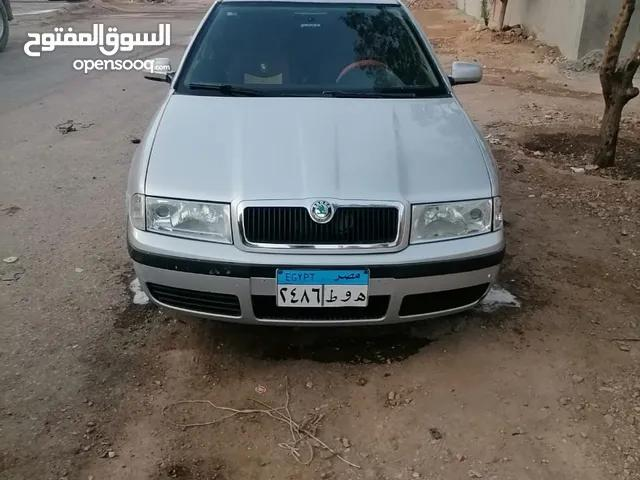skoda: (306, 196, 338, 226)
